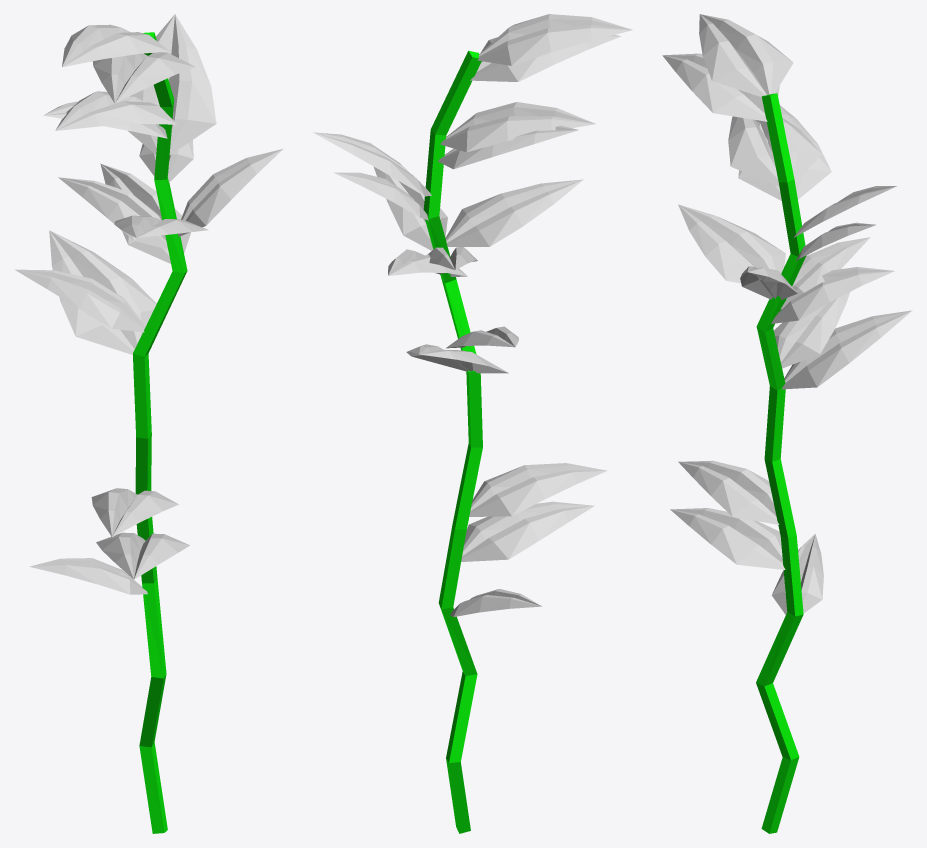
Rendered from grasBig_2.fbx.
3 renders of one model, left to right at view 1: azimuth 30°, elevation 25°; view 2: azimuth 150°, elevation 25°; view 3: azimuth 270°, elevation 25°, orthographic. The views are drawn at different scales.
Visible parts, largest first — view 1: quickmaterial1; view 2: quickmaterial1; view 3: quickmaterial1.
Boxes of the visible parts, bbox=[...] form: quickmaterial1: bbox=[15, 14, 282, 833]; quickmaterial1: bbox=[313, 14, 632, 833]; quickmaterial1: bbox=[662, 14, 912, 833].
Size of the model in its own units: 0.3253 by 1.05 by 0.311.
